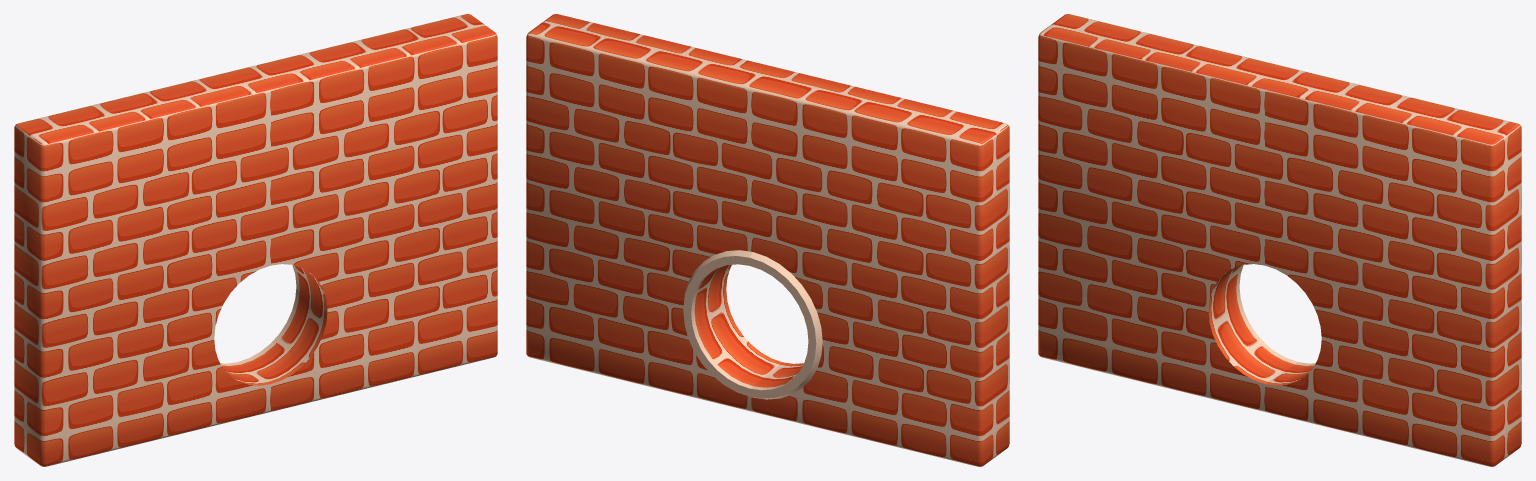
Rendered from Brick.fbx.
3 views of the same model, side by side, from view 1: azimuth 30°, elevation 25°; view 2: azimuth 150°, elevation 25°; view 3: azimuth 330°, elevation 25° (orthographic).
Parts seen in each view (by area): view 1: Brick_R, Brick_L; view 2: Brick_R, Brick_L; view 3: Brick_L, Brick_R.
Boxes of the visible parts, <box> form: Brick_R: <box>14,69,270,466</box>; Brick_L: <box>238,14,497,411</box>; Brick_R: <box>749,69,1009,466</box>; Brick_L: <box>526,14,782,411</box>; Brick_L: <box>1265,69,1521,466</box>; Brick_R: <box>1038,14,1297,411</box>.
Size of the model in its own units: 882 by 598 by 111.
